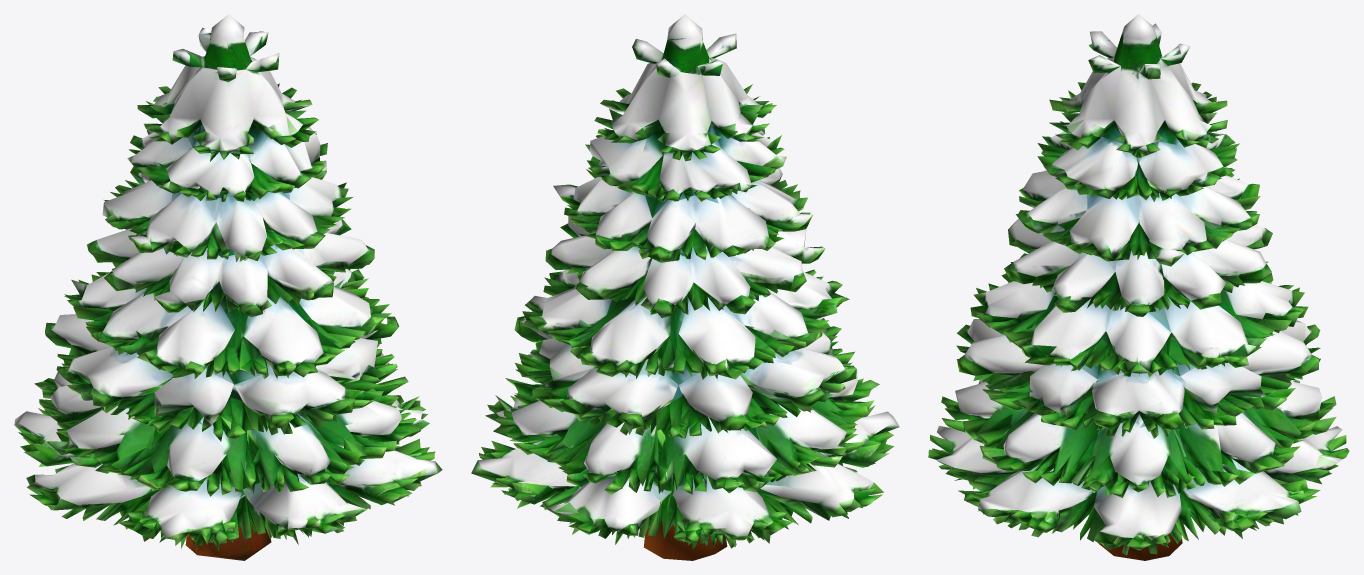
The model's file is pine.glb.
3 views of the same model, side by side, from view 1: azimuth 30°, elevation 25°; view 2: azimuth 150°, elevation 25°; view 3: azimuth 270°, elevation 25° (orthographic).
Parts seen in each view (by area): view 1: pine; view 2: pine; view 3: pine.
Boxes of the visible parts, x1,y1,x2,y2 form: pine: (14, 14, 442, 560); pine: (471, 14, 899, 560); pine: (928, 14, 1349, 560).
Bounding box in the file's own units: 0.7639 × 1 × 0.7178.
1 material, 1 textured.
